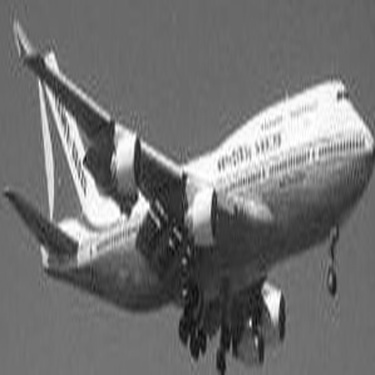airplane: (10, 9, 365, 351)
